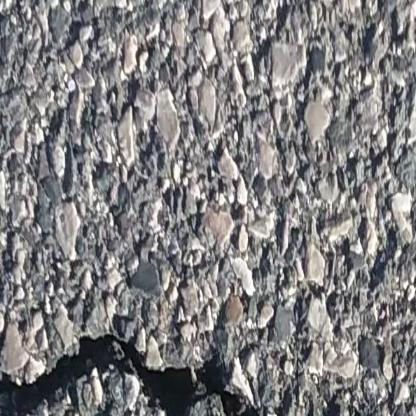Cracks: (0, 334, 266, 416), (302, 409, 321, 416)
